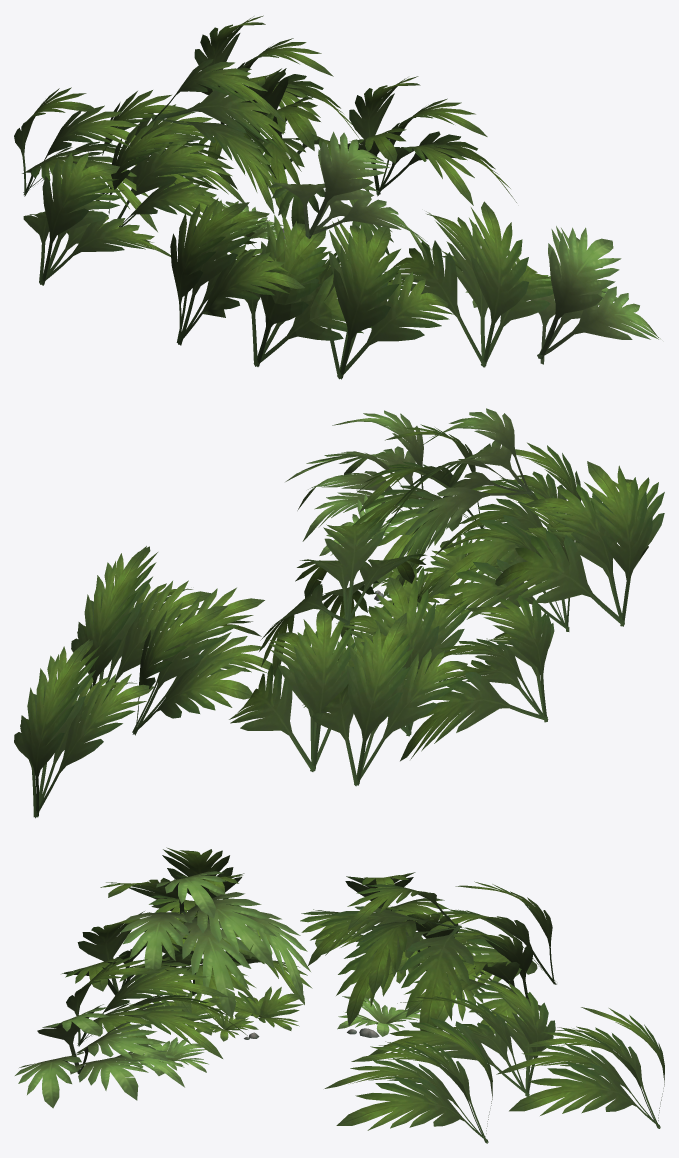
The model's file is low-trees.glb.
3 renders of one model, top to bottom at view 1: azimuth 30°, elevation 25°; view 2: azimuth 150°, elevation 25°; view 3: azimuth 270°, elevation 25°, orthographic. The views are drawn at different scales.
Bounding box in the file's own units: 1085 × 535 × 1630.
1 material, 1 textured.
